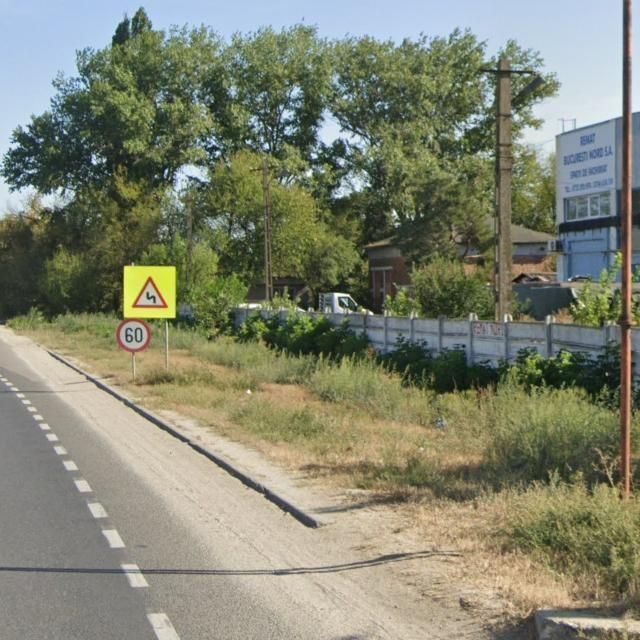forb_speed_over_60: (117, 319, 152, 353)
